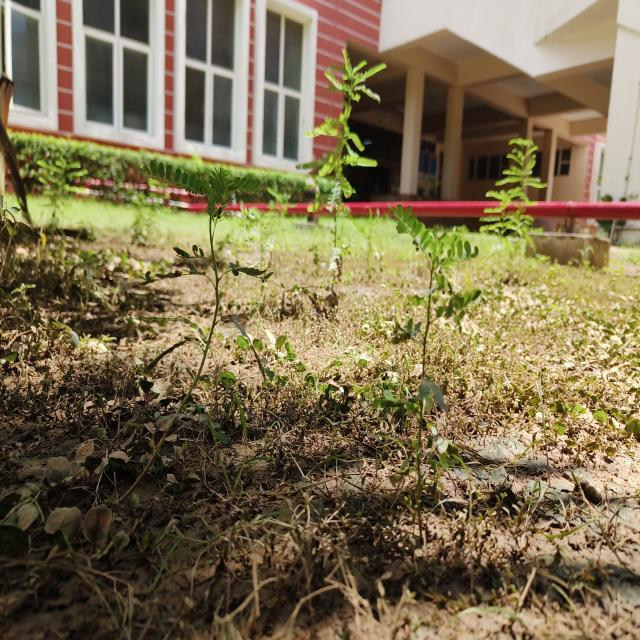weed: (144, 156, 270, 438), (386, 210, 485, 453)
